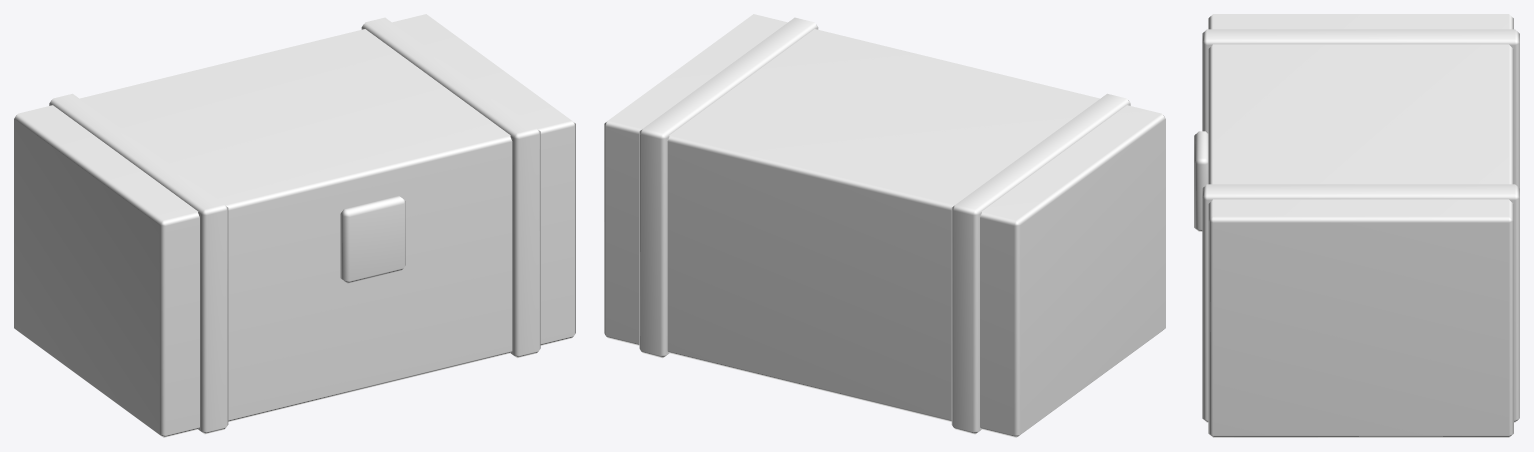
File: chest_base.glb
The picture shows the model from 3 angles, left to right: view 1: azimuth 30°, elevation 25°; view 2: azimuth 150°, elevation 25°; view 3: azimuth 270°, elevation 25°; orthographic projection.
Parts seen in each view (by area): view 1: ChestBase; view 2: ChestBase; view 3: ChestBase.
Part boxes in pixels (x1,y1,x2,y2): ChestBase: (14,14,575,437); ChestBase: (604,14,1165,437); ChestBase: (1194,14,1519,437).
Bounding box in the file's own units: 1.2 × 0.62 × 0.8.
Materials: 1 (1 with a texture image).
